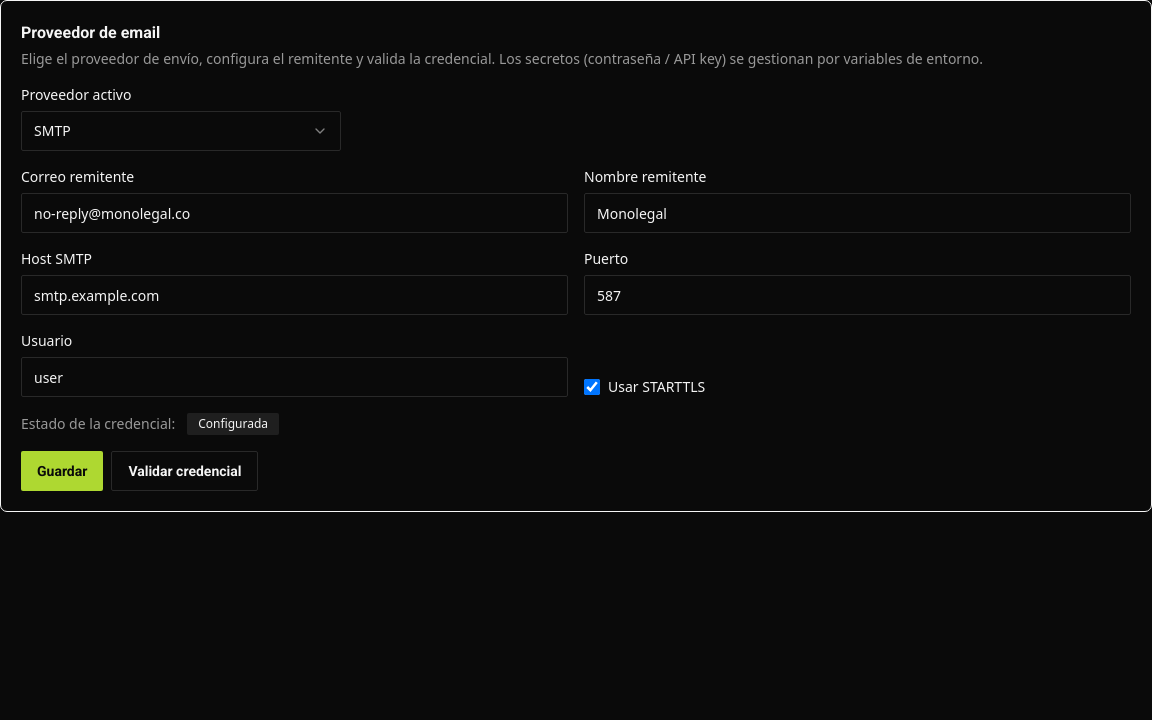
Test case: EmailProviderSection › valida la credencial y muestra un toast de éxito
The width and height of the screenshot is (1152, 720).
Click the button "Validar credencial". click: click(185, 471)
box: 111,451 -> 258,491
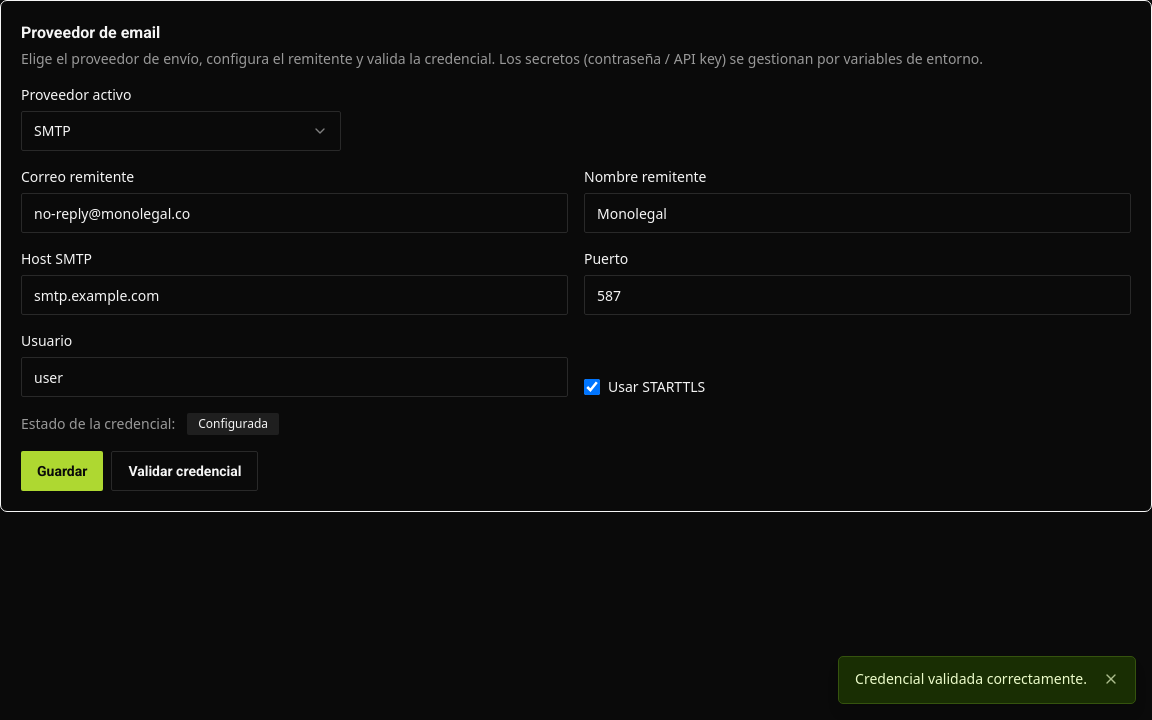
Expected: the text "Credencial validada correctamente." is shown, 855,669 -> 1087,688
